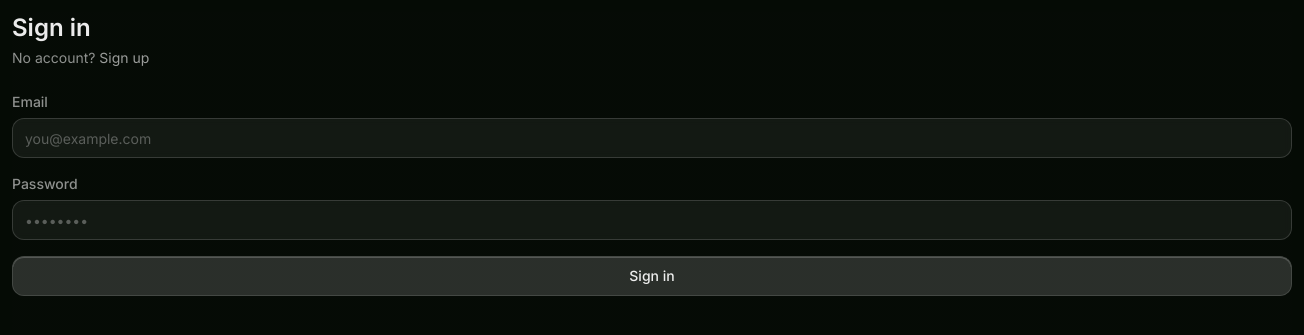
Test: LoginPage › shows a validation error for an invalid email
The width and height of the screenshot is (1304, 335).
Type "not-an-email" into the field labelled "Email". click: (652,138)
box: top-left (12, 118), bottom-right (1292, 158)
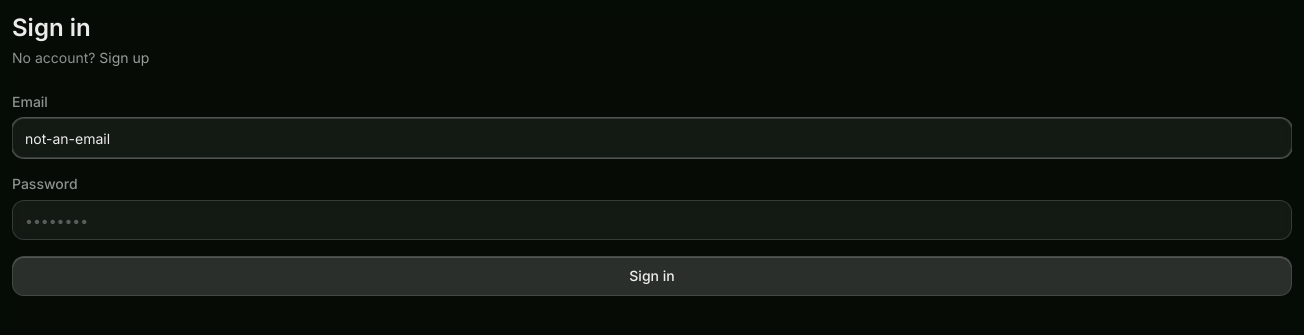
Type "password123" into the password field labelled "Password". click: (652,220)
box: top-left (12, 200), bottom-right (1292, 240)
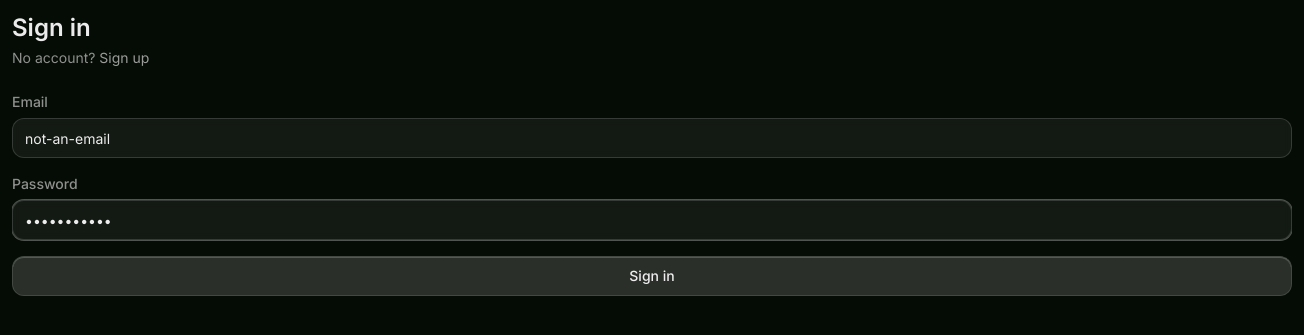
Click the button "Sign in". click: (652,276)
box: top-left (12, 256), bottom-right (1292, 296)
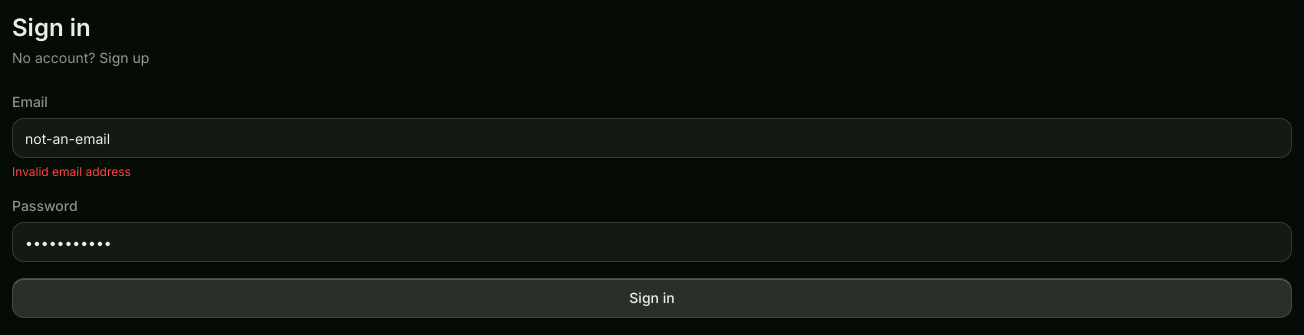
Expected: the text "Invalid email address" is shown, top-left (12, 164), bottom-right (131, 179)
